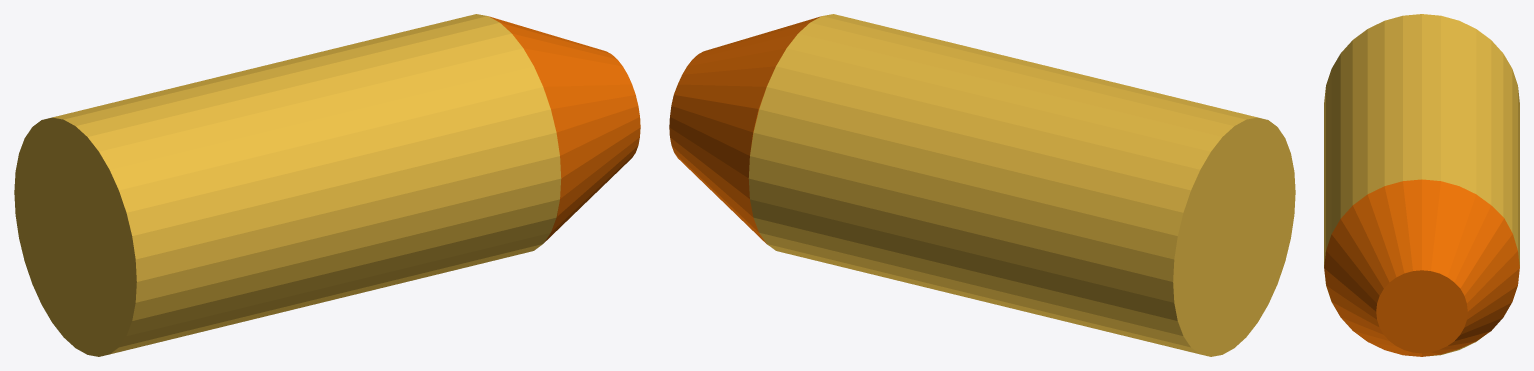
The model's file is Bullet.fbx.
3 renders of one model, left to right at view 1: azimuth 30°, elevation 25°; view 2: azimuth 150°, elevation 25°; view 3: azimuth 270°, elevation 25°, orthographic. The views are drawn at different scales.
Visible parts, largest first — view 1: Цилиндр, Конус; view 2: Цилиндр, Конус; view 3: Цилиндр, Конус.
Part boxes in pixels (bbox=[...]): Цилиндр: bbox=[14, 14, 561, 356]; Конус: bbox=[488, 16, 640, 242]; Цилиндр: bbox=[748, 14, 1295, 356]; Конус: bbox=[669, 16, 821, 244]; Цилиндр: bbox=[1324, 14, 1519, 356]; Конус: bbox=[1324, 179, 1519, 356].
Bounding box in the file's own units: 506 × 200 × 200.
